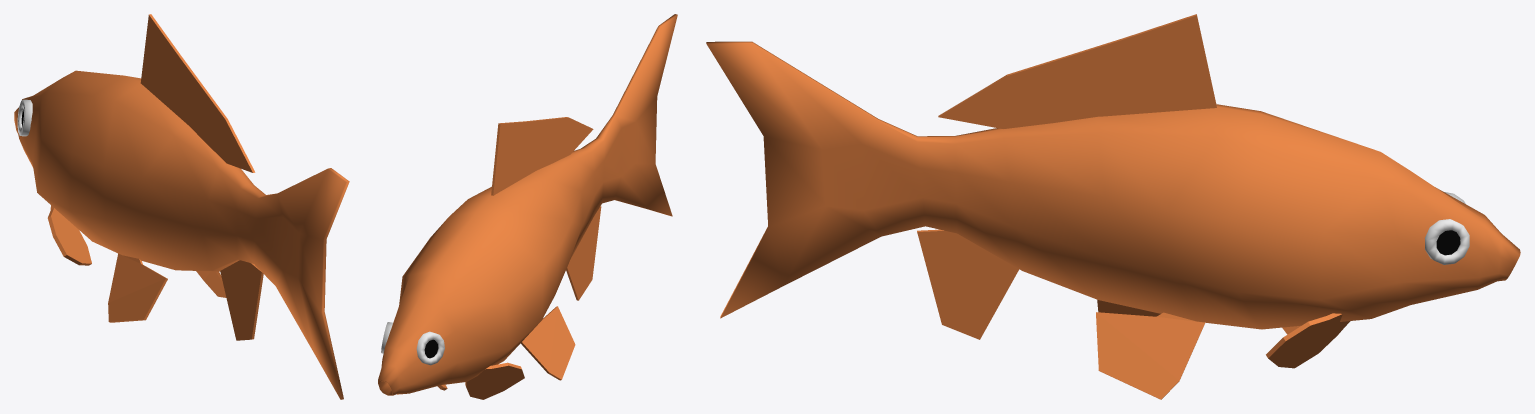
The model's file is Goldfish.fbx.
The picture shows the model from 3 angles, left to right: view 1: azimuth 30°, elevation 25°; view 2: azimuth 150°, elevation 25°; view 3: azimuth 270°, elevation 25°; orthographic projection. The views are drawn at different scales.
Visible parts, largest first — view 1: Cube, Cube.001, Cube.003, Cube.002, Cube.004, Cylinder; view 2: Cube, Cube.001, Cube.003, Cube.002, Cube.004, Cylinder; view 3: Cube, Cube.001, Cube.003, Cube.002, Cube.004, Cylinder.
Boxes of the visible parts, x1,y1,x2,y2 form: Cube: (14,70,349,399); Cube.001: (140,14,255,172); Cube.003: (108,253,226,322); Cube.002: (220,260,263,340); Cube.004: (47,205,91,265); Cylinder: (17,99,32,136); Cube: (378,14,677,395); Cube.001: (491,117,593,195); Cube.003: (520,306,575,380); Cube.002: (566,206,601,300); Cube.004: (437,362,524,399); Cylinder: (381,322,444,365); Cube: (706,41,1520,329); Cube.001: (938,14,1216,128); Cube.003: (1096,300,1204,399); Cube.002: (917,229,1018,339); Cube.004: (1266,313,1350,368); Cylinder: (1424,192,1469,264).
Bounding box in the file's own units: 3.12 × 6.67 × 13.95.
